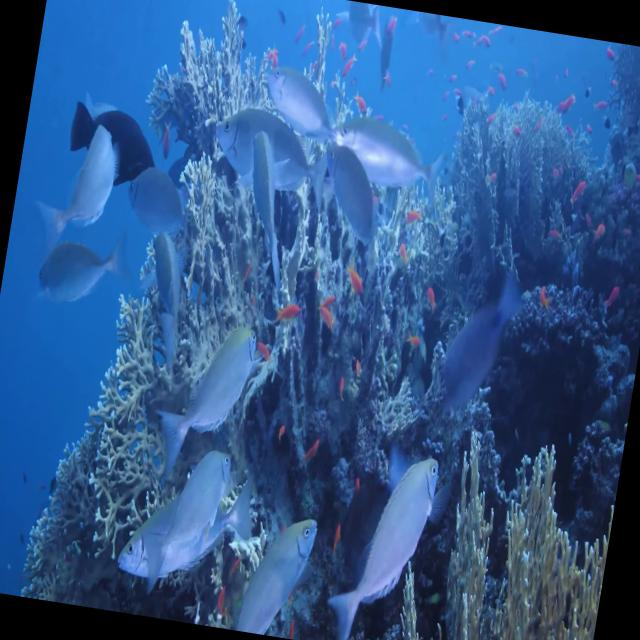fish: (323, 439, 448, 640), (221, 125, 322, 338), (146, 304, 266, 480), (128, 439, 252, 599), (114, 468, 264, 596), (422, 261, 528, 426), (32, 120, 136, 256), (306, 128, 394, 278), (234, 500, 325, 640), (55, 87, 168, 196), (29, 215, 136, 328), (203, 104, 319, 207), (334, 94, 442, 190), (135, 214, 197, 377), (112, 150, 206, 240), (244, 40, 340, 128)
